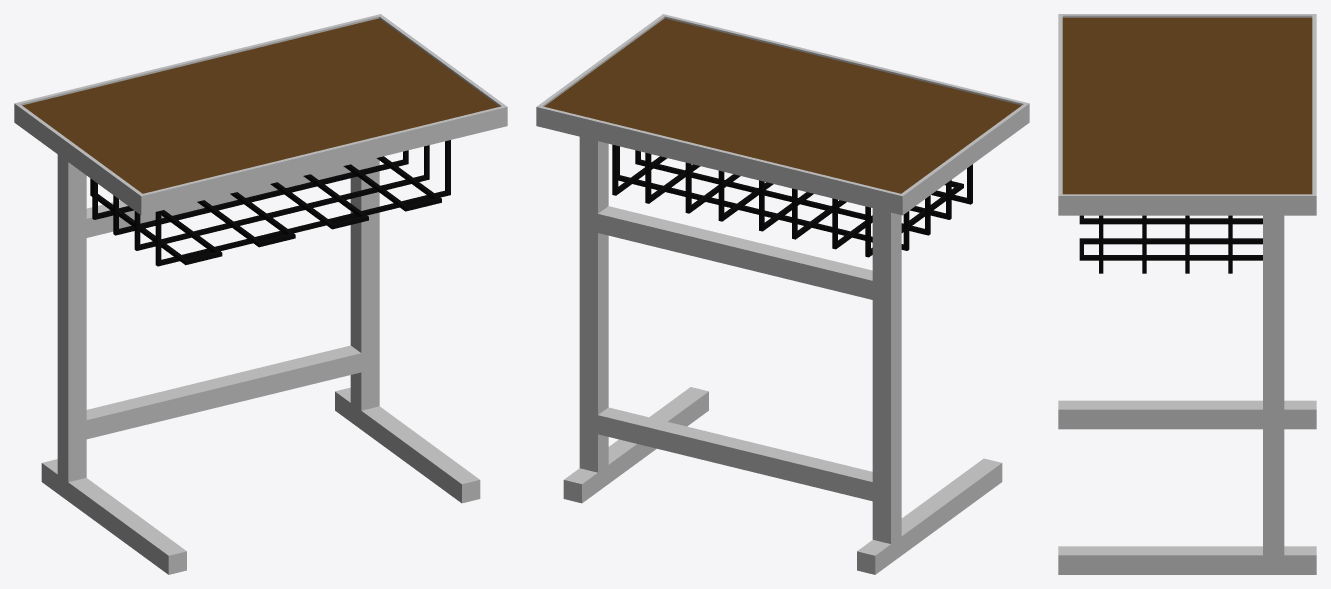
File: desk.obj
3 renders of one model, left to right at view 1: azimuth 30°, elevation 25°; view 2: azimuth 150°, elevation 25°; view 3: azimuth 270°, elevation 25°, orthographic.
Parts seen in each view (by area): view 1: Surface_Cube.001, Edge_Cube.010, LeftPillar_Cube.003, BottomPillar_Cube, RightPillar_Cube.002, NetH_Cube.006, NetV_Cube.007, LeftLeg_Cube.005, RightLeg_Cube.004, TopPillar_Cube.008; view 2: Surface_Cube.001, Edge_Cube.010, LeftPillar_Cube.003, RightPillar_Cube.002, TopPillar_Cube.008, BottomPillar_Cube, NetV_Cube.007, LeftLeg_Cube.005, NetH_Cube.006, RightLeg_Cube.004; view 3: Surface_Cube.001, Edge_Cube.010, RightPillar_Cube.002, RightLeg_Cube.004, LeftLeg_Cube.005, NetV_Cube.007, NetH_Cube.006.
Part boxes in pixels (bbox=[...]): Surface_Cube.001: bbox=[22, 18, 499, 193]; Edge_Cube.010: bbox=[14, 14, 507, 215]; LeftPillar_Cube.003: bbox=[57, 154, 86, 482]; BottomPillar_Cube: bbox=[86, 345, 361, 439]; RightPillar_Cube.002: bbox=[350, 158, 379, 410]; NetH_Cube.006: bbox=[92, 140, 450, 266]; NetV_Cube.007: bbox=[90, 156, 441, 265]; LeftLeg_Cube.005: bbox=[41, 459, 186, 574]; RightLeg_Cube.004: bbox=[335, 387, 480, 503]; TopPillar_Cube.008: bbox=[86, 162, 361, 237]; Surface_Cube.001: bbox=[544, 18, 1021, 193]; Edge_Cube.010: bbox=[536, 14, 1029, 215]; LeftPillar_Cube.003: bbox=[872, 208, 901, 543]; RightPillar_Cube.002: bbox=[579, 137, 608, 472]; TopPillar_Cube.008: bbox=[598, 206, 872, 299]; BottomPillar_Cube: bbox=[598, 407, 872, 501]; NetV_Cube.007: bbox=[612, 144, 963, 257]; LeftLeg_Cube.005: bbox=[857, 458, 1002, 574]; NetH_Cube.006: bbox=[618, 146, 972, 250]; RightLeg_Cube.004: bbox=[563, 387, 708, 503]; Surface_Cube.001: bbox=[1062, 17, 1312, 194]; Edge_Cube.010: bbox=[1058, 14, 1316, 215]; RightPillar_Cube.002: bbox=[1263, 215, 1284, 555]; RightLeg_Cube.004: bbox=[1058, 546, 1316, 574]; LeftLeg_Cube.005: bbox=[1058, 400, 1316, 429]; NetV_Cube.007: bbox=[1079, 215, 1262, 260]; NetH_Cube.006: bbox=[1099, 215, 1232, 273].
Bounding box in the file's own units: 1 × 1 × 0.6.
